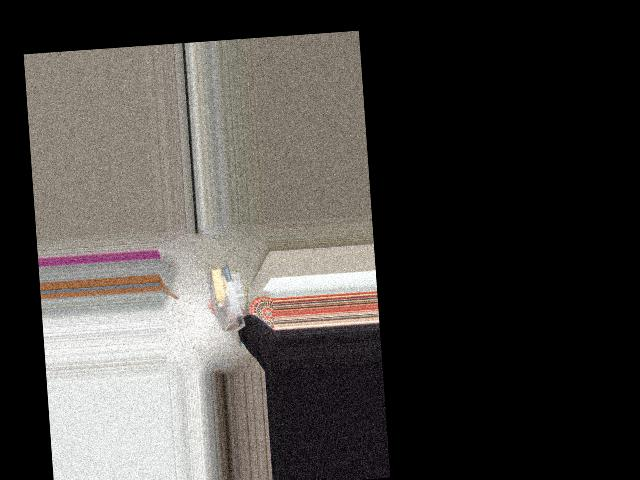cheese: (207, 264, 248, 335)
